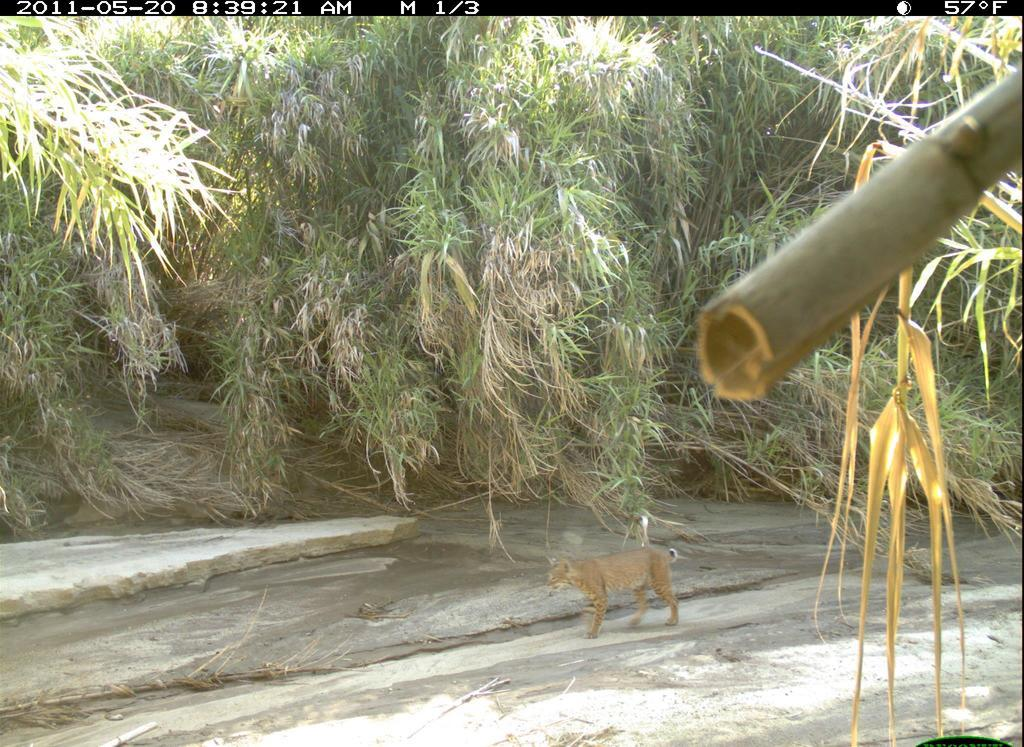bobcat: (545, 538, 693, 642)
